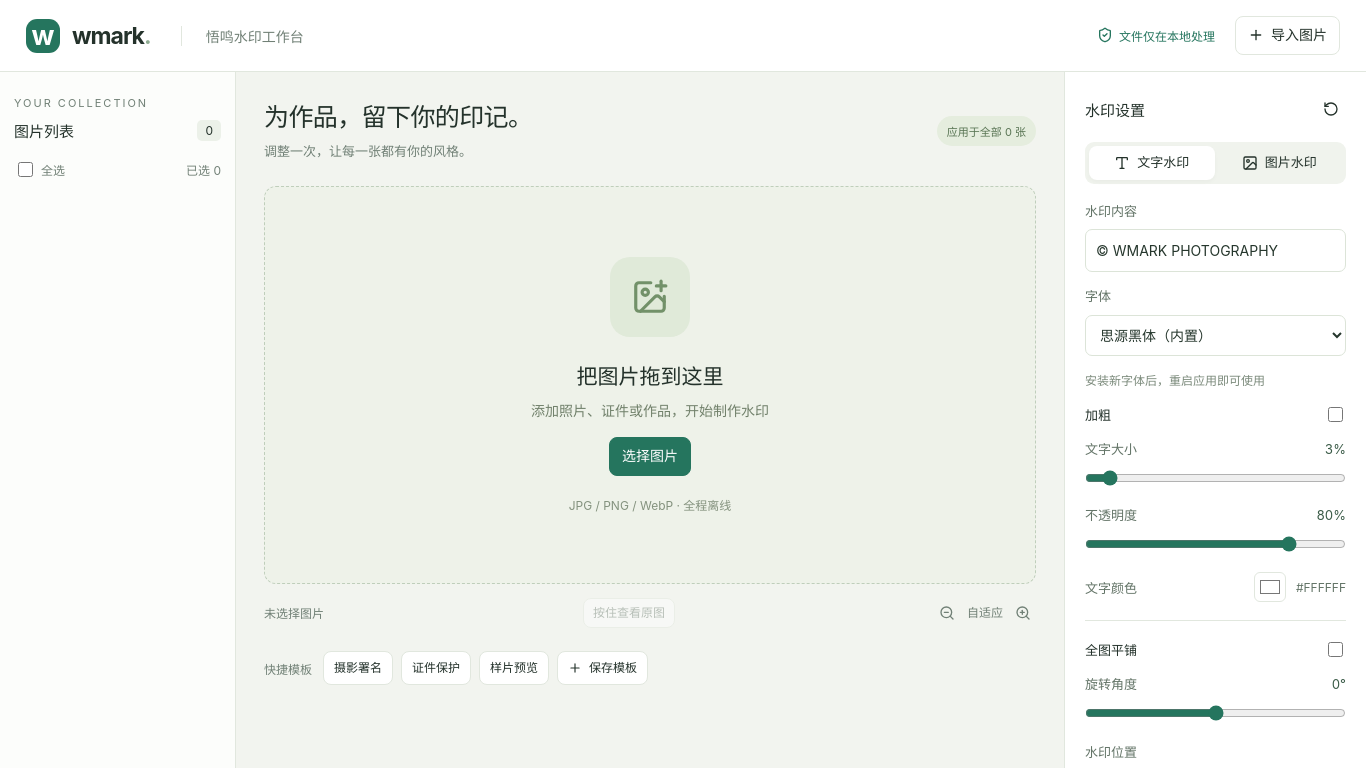
Test: R06 selected scope prevents empty export
This screenshot has width=1366, height=768.
Click the button "选择图片": (650, 456) [609,437,691,476]
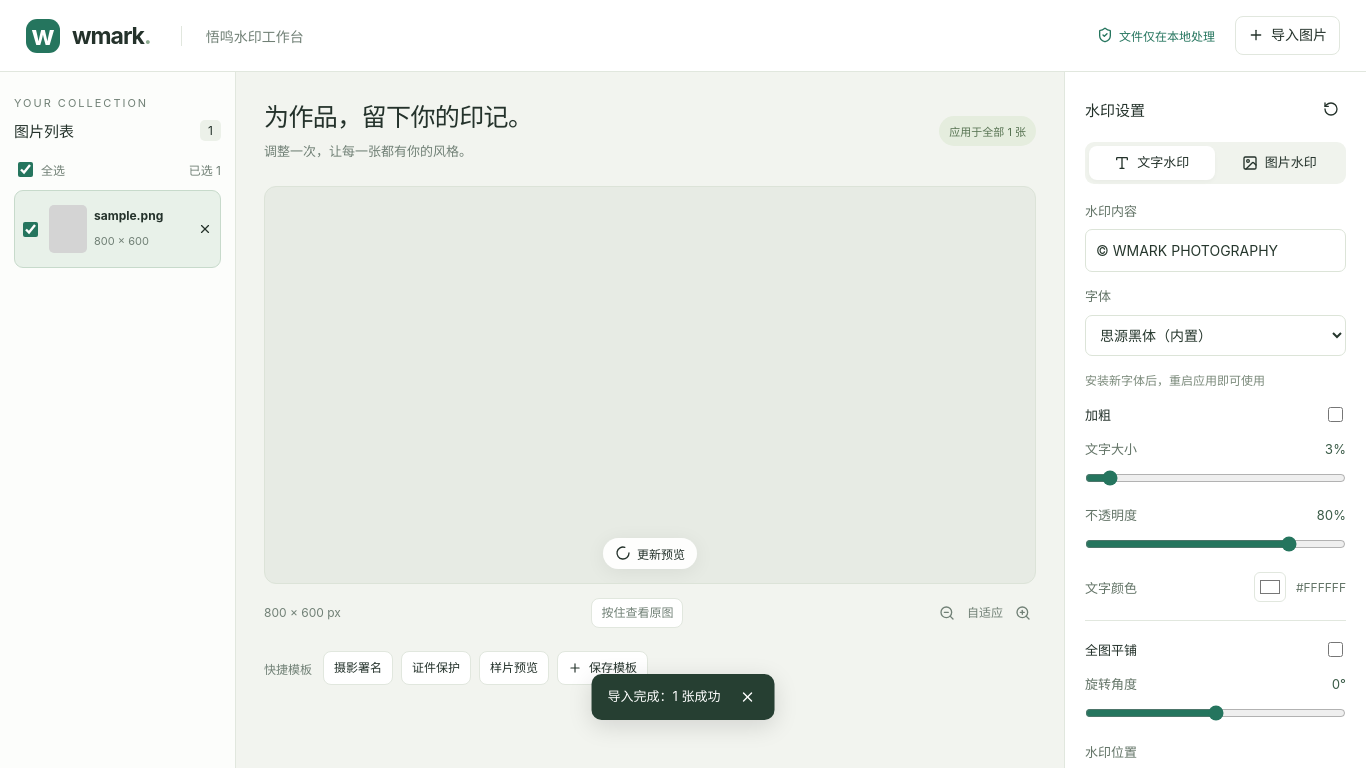
Expected: the text "800 × 600 px" is shown, [264,605,341,620]
Click the checkbox named "全选图片": (26, 170) [18,162,33,177]
(page scrolled)
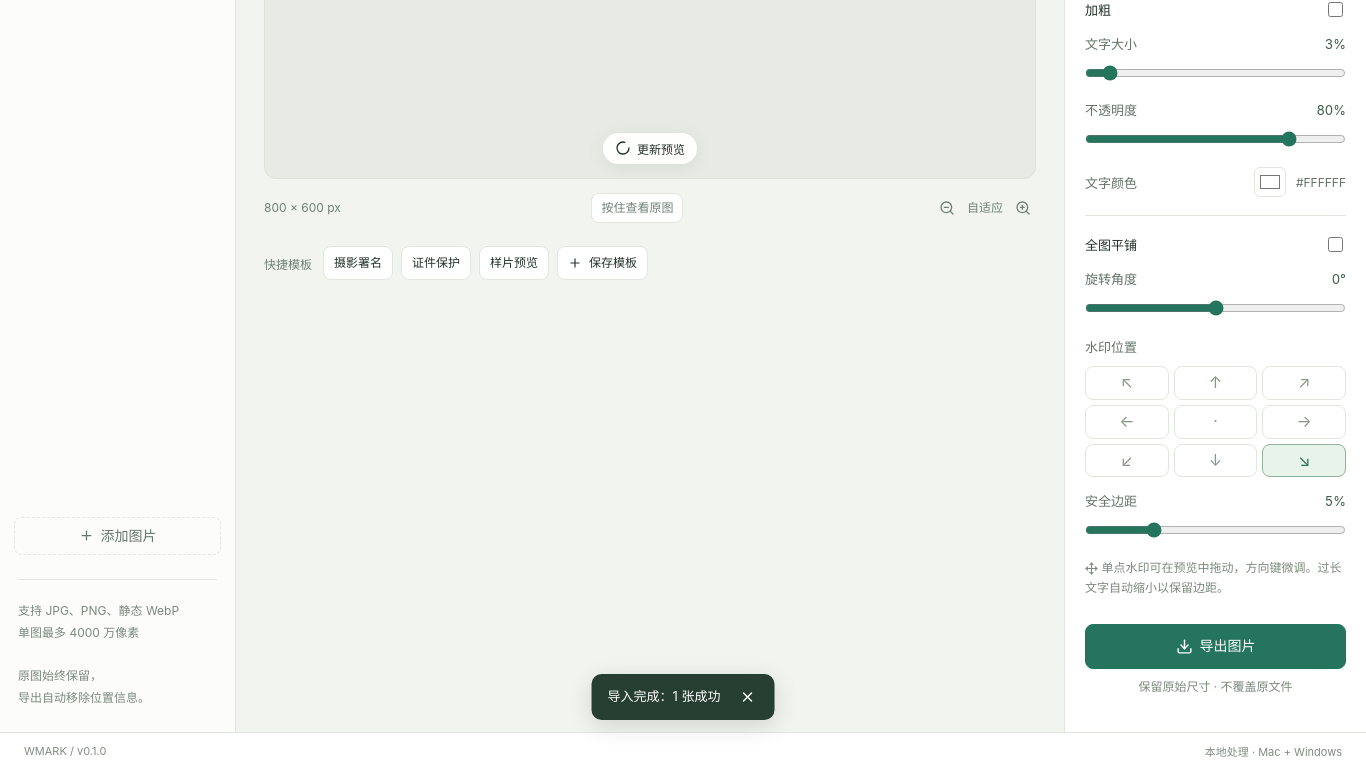
Click the button "导出图片": (1216, 646) [1085,624,1346,669]
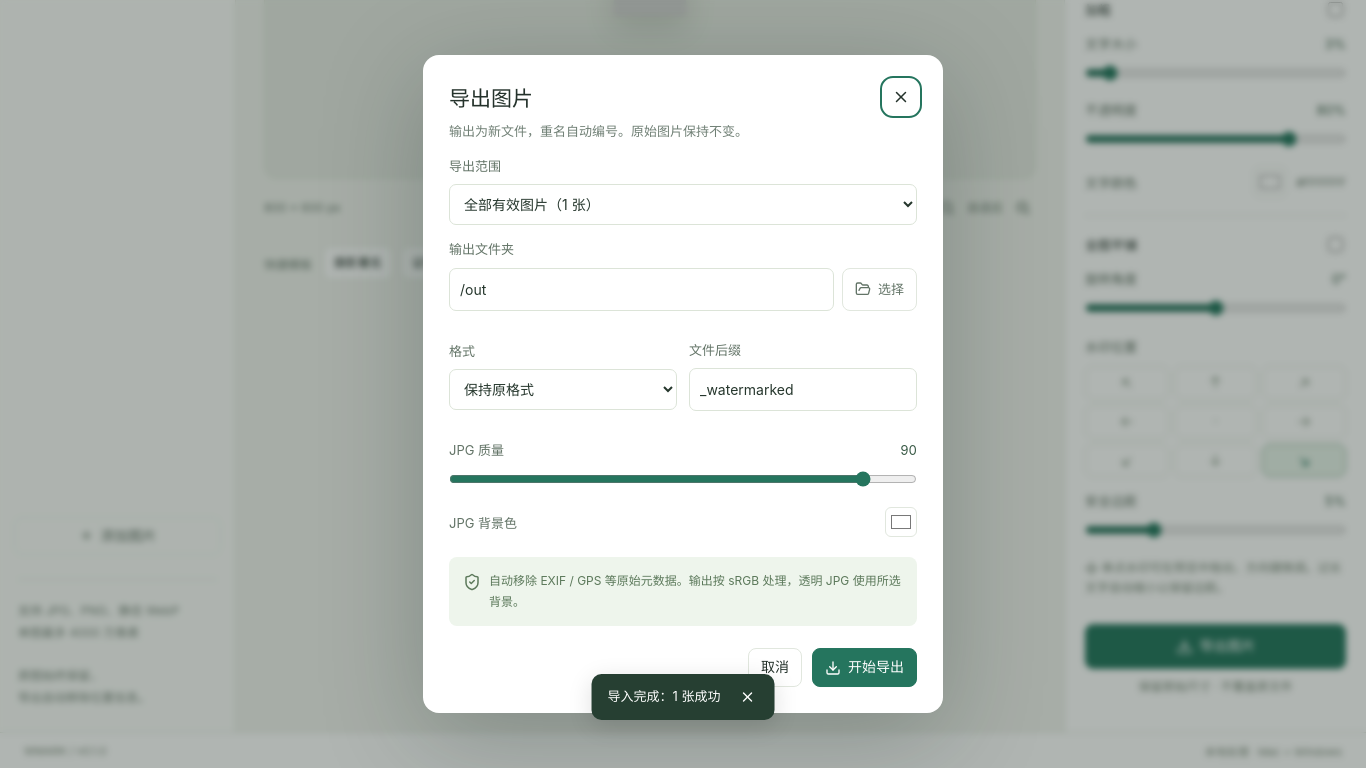
Select "已选图片（0 张）" in the dropdown labelled "导出范围": (683, 205) [449,184,917,225]
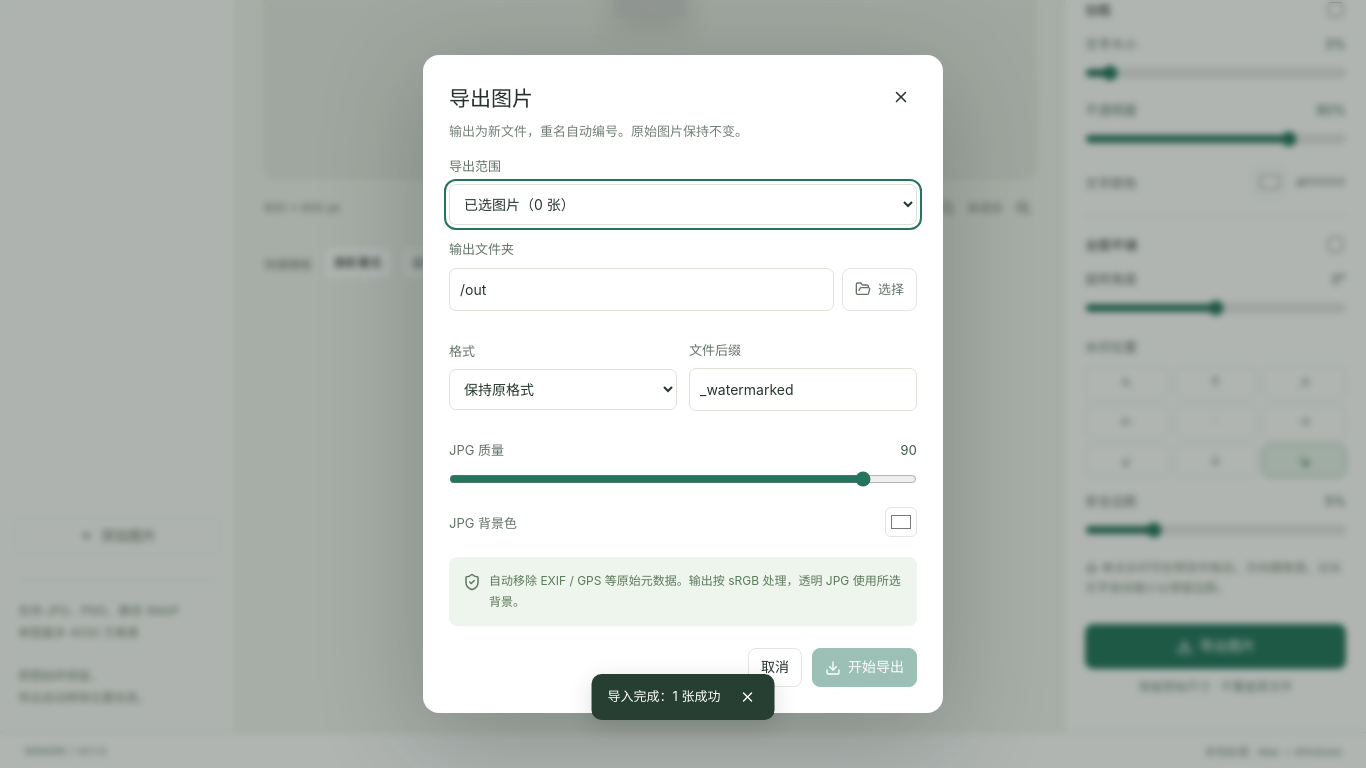
Expected: the button "开始导出" is disabled, [812,648,917,687]
